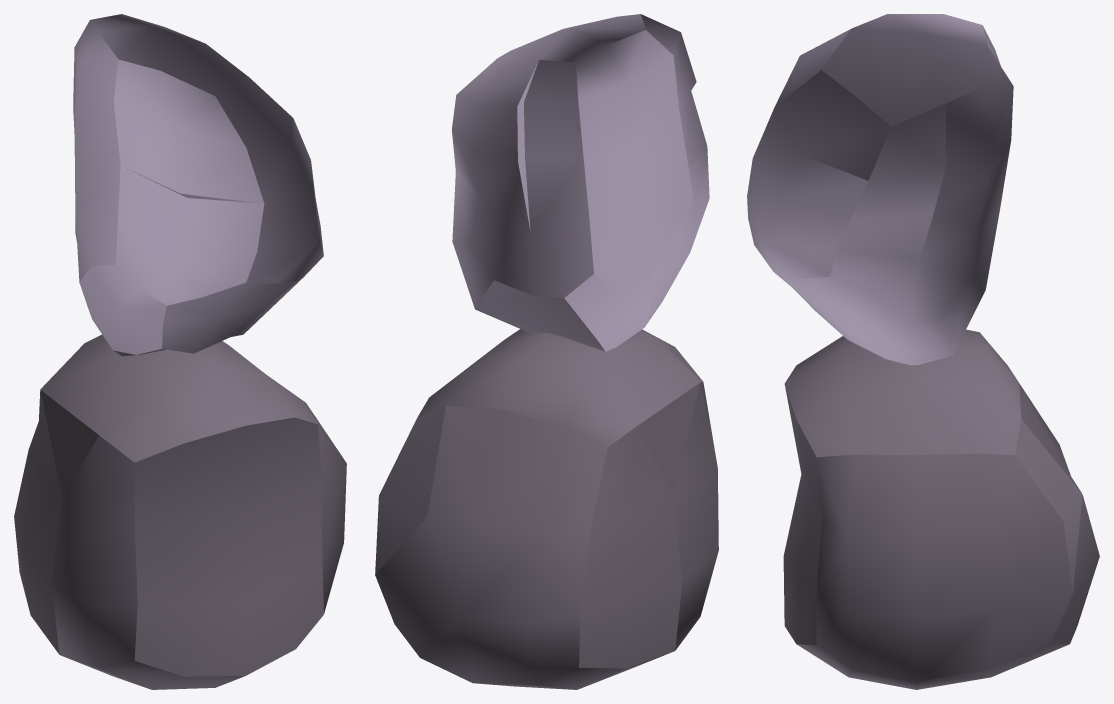
Rendered from P_balanceRock_01_LD.fbx.
3 renders of one model, left to right at view 1: azimuth 30°, elevation 25°; view 2: azimuth 150°, elevation 25°; view 3: azimuth 270°, elevation 25°, orthographic. The views are drawn at different scales.
Parts seen in each view (by area): view 1: P_balanceRock_01; view 2: P_balanceRock_01; view 3: P_balanceRock_01.
Part boxes in pixels (x1,y1,x2,y2): P_balanceRock_01: (14, 14, 346, 689); P_balanceRock_01: (375, 14, 718, 689); P_balanceRock_01: (747, 14, 1099, 689).
Size of the model in its own units: 1.26 by 2.98 by 1.52.
2 materials, 2 textured.
